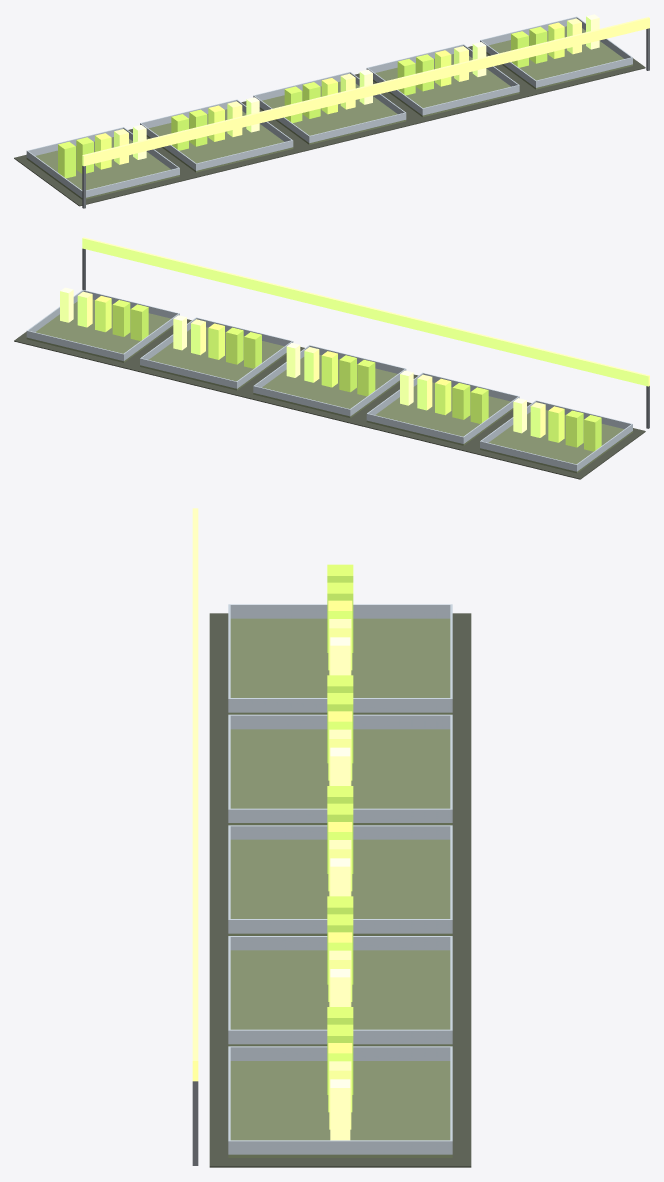
File: pack-neighbourhood-safety-civic-voice.glb
3 views of the same model, one above another, from view 1: azimuth 30°, elevation 25°; view 2: azimuth 150°, elevation 25°; view 3: azimuth 270°, elevation 25° (orthographic). The views are drawn at different scales.
Visible parts, largest first — view 1: Neighbourhood, Safety & Civic Voice; view 2: Neighbourhood, Safety & Civic Voice; view 3: Neighbourhood, Safety & Civic Voice.
Boxes of the visible parts, bbox=[...] form: Neighbourhood, Safety & Civic Voice: bbox=[14, 14, 649, 208]; Neighbourhood, Safety & Civic Voice: bbox=[14, 237, 649, 479]; Neighbourhood, Safety & Civic Voice: bbox=[192, 508, 471, 1167].
Bounding box in the file's own units: 70 × 6.3 × 14.9.
